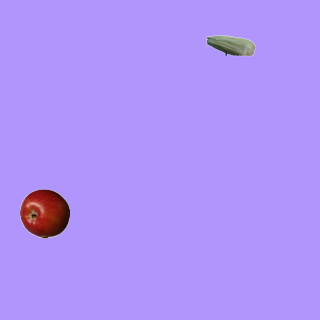Apple Braeburn: (19, 188, 69, 238)
Corn Husk: (205, 20, 255, 70)
